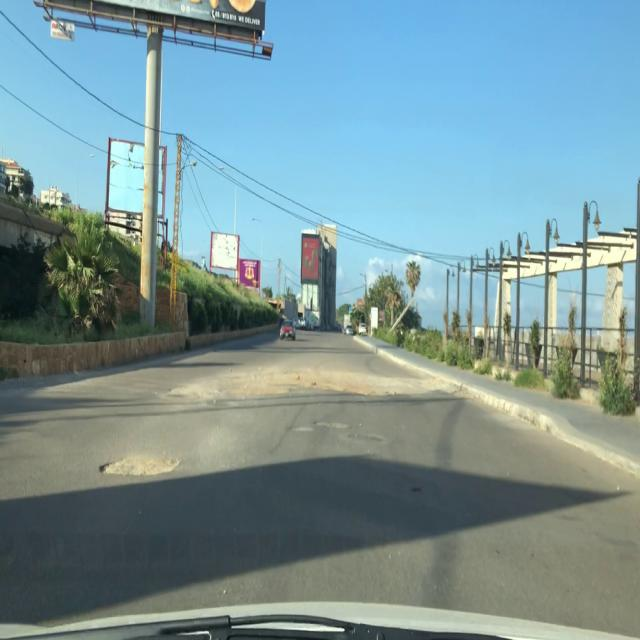Pothole: (92, 449, 184, 484)
